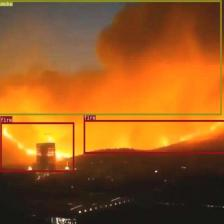fire: (83, 120, 224, 154), (0, 122, 74, 172)
smoke: (0, 0, 221, 115)
